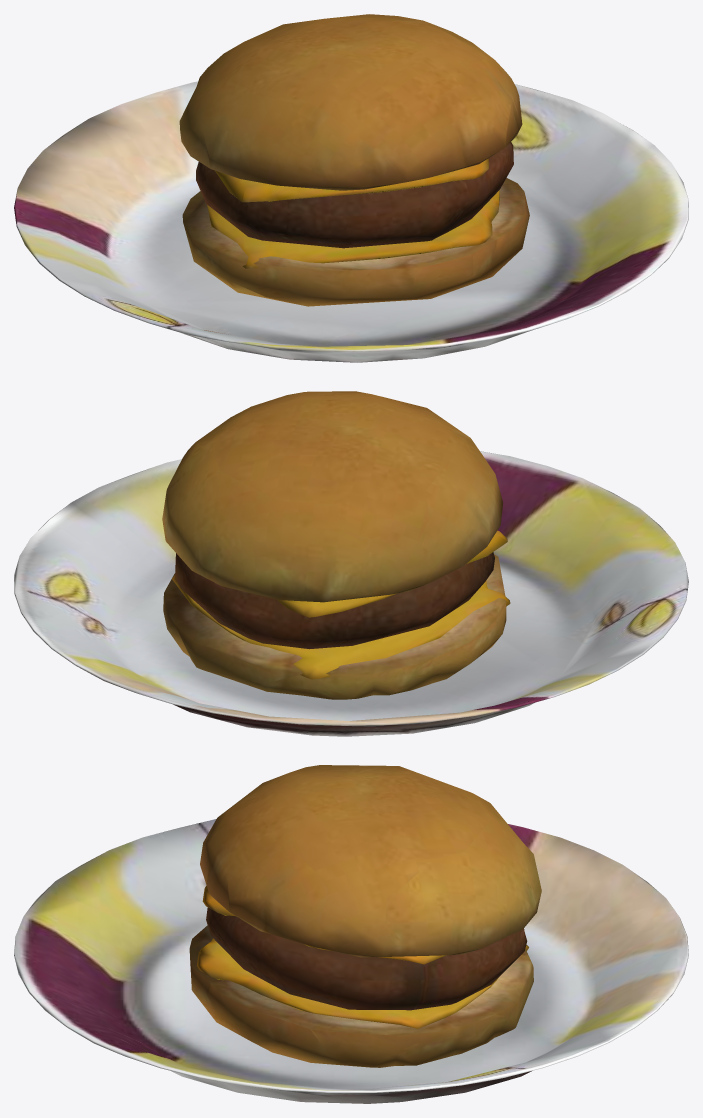
Rendered from hamburguesa.glb.
3 views of the same model, one above another, from view 1: azimuth 30°, elevation 25°; view 2: azimuth 150°, elevation 25°; view 3: azimuth 270°, elevation 25° (orthographic).
Parts seen in each view (by area): view 1: Object_2.005, Object_10.004, node_id37_6.001, node_id31_1.001, node_id39_0.001, node_id33_4.001; view 2: Object_2.005, Object_10.004, node_id37_6.001, node_id31_1.001, node_id39_0.001, node_id33_4.001; view 3: Object_2.005, Object_10.004, node_id37_6.001, node_id31_1.001, node_id39_0.001, node_id33_4.001.
Part boxes in pixels (x1,y1,x2,y2): Object_2.005: [14, 81, 688, 362]; Object_10.004: [179, 14, 522, 190]; node_id37_6.001: [182, 178, 529, 306]; node_id31_1.001: [196, 142, 513, 248]; node_id39_0.001: [207, 190, 499, 268]; node_id33_4.001: [215, 158, 488, 202]; Object_2.005: [14, 451, 688, 736]; Object_10.004: [162, 391, 502, 602]; node_id37_6.001: [163, 554, 506, 699]; node_id31_1.001: [175, 552, 494, 649]; node_id39_0.001: [172, 575, 510, 679]; node_id33_4.001: [276, 530, 507, 617]; Object_2.005: [14, 819, 688, 1103]; Object_10.004: [200, 765, 541, 957]; node_id37_6.001: [189, 925, 533, 1067]; node_id31_1.001: [206, 907, 527, 1010]; node_id39_0.001: [196, 938, 528, 1028]; node_id33_4.001: [202, 885, 446, 964].
Bounding box in the file's own units: 11.65 × 4.18 × 11.66.
Materials: 4 (4 with a texture image).
